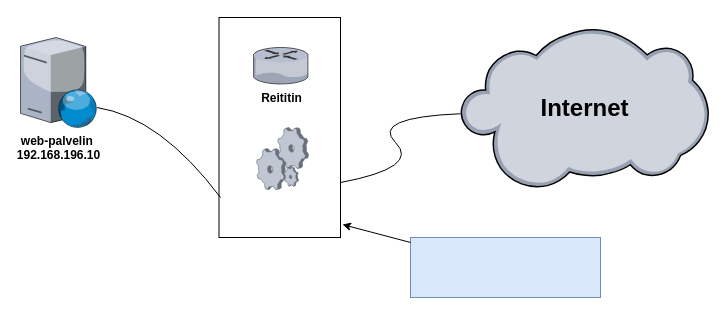
Some shapes in this 726 by 315 pixel diagram are drawn without their labels. The shapes that lost their labels are listed below. From the top down, each one's box as (x1, y1, x2, y2) in pixels, then its label:
(256, 127, 308, 189): NAT
(410, 236, 600, 298): Reitittimen julkinen IP-osoite: 80
